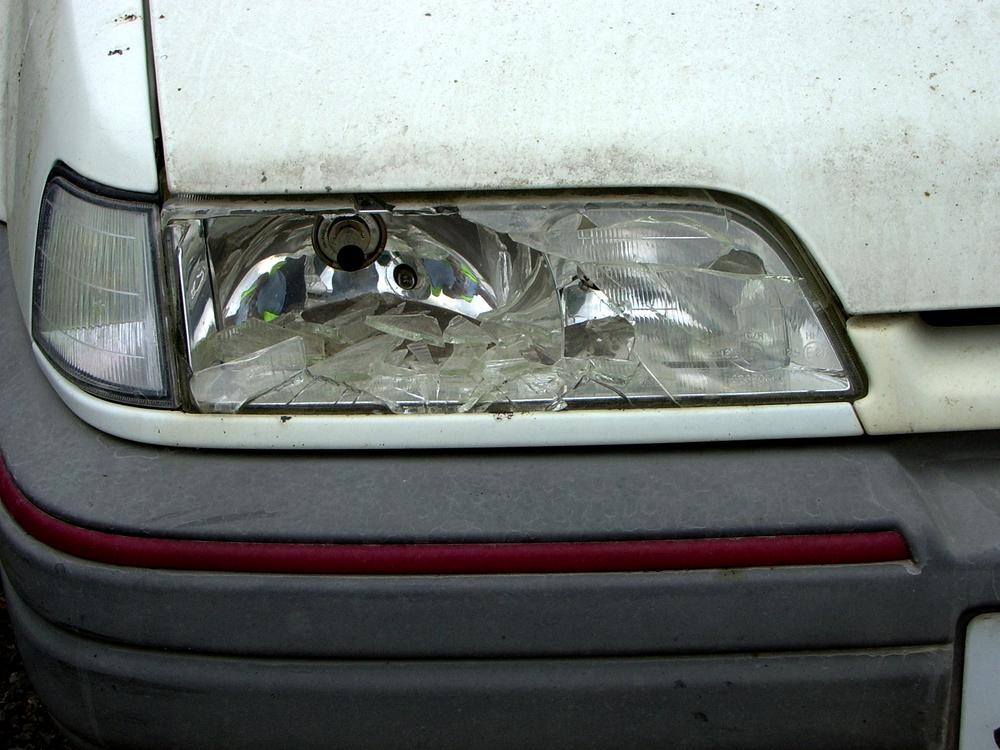lamp broken: (162, 189, 864, 414)
